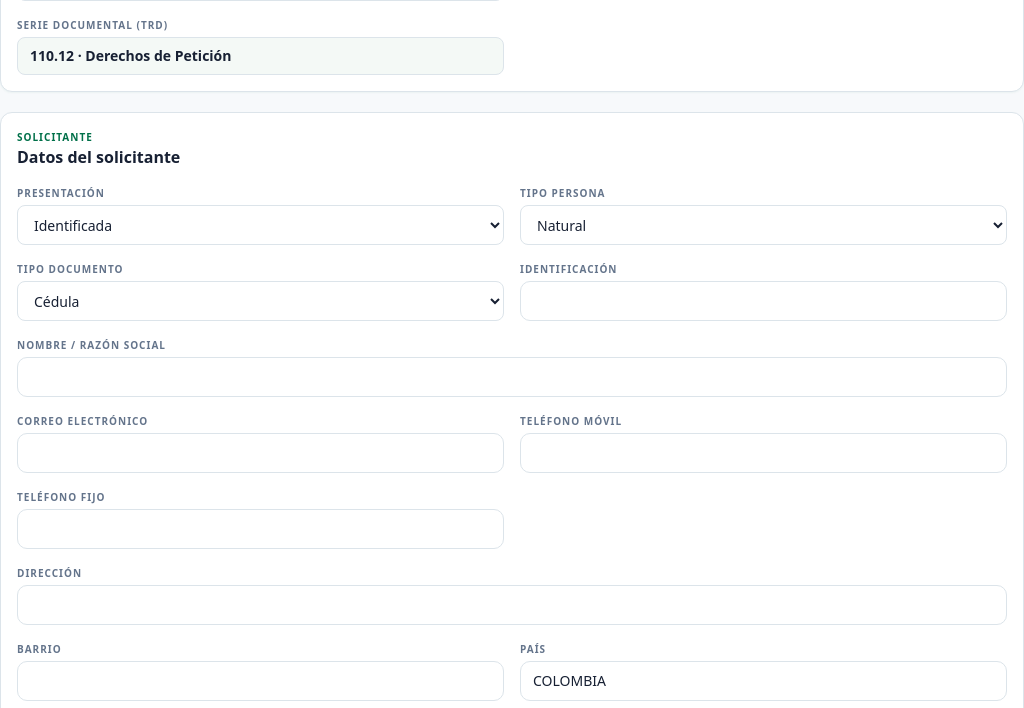
Test: Solicitante frecuente — autocompletar en el formulario › seleccionar una sugerencia llena los campos editables y avisa verificar
(page scrolled)
Type "robinson" into the field labelled "Nombre / razón social" at (512, 377), box [17,357,1007,397]
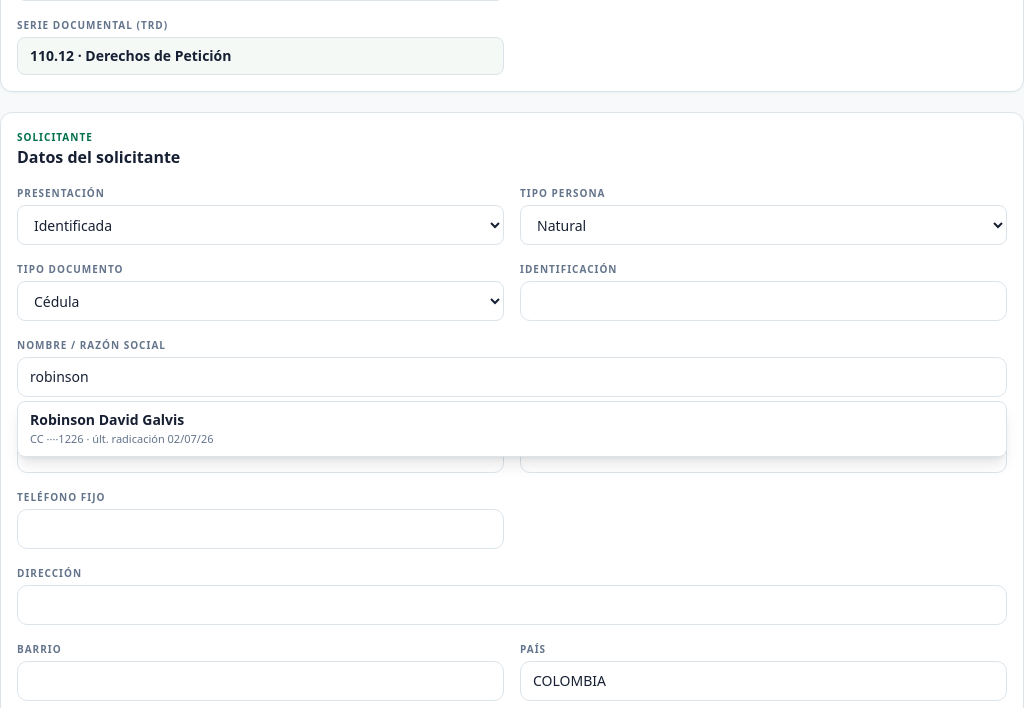
Press the mouse on the option with aria-label "Usar datos de Robinson David Galvis" at (107, 420), box [18,402,1006,456]
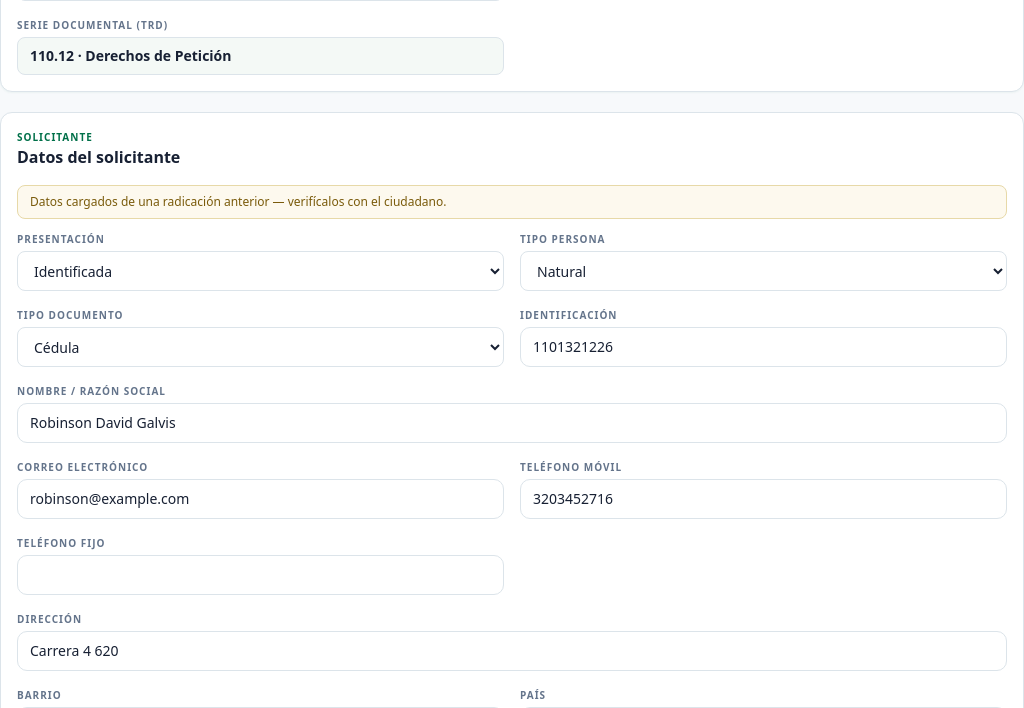
Check: the field labelled "Nombre / razón social" holds "Robinson David Galvis", box [17,403,1007,443]
Check: the field labelled "Identificación" holds "1101321226", box [520,327,1007,367]
Check: the field labelled "Correo electrónico" holds "robinson@example.com", box [17,479,504,519]
